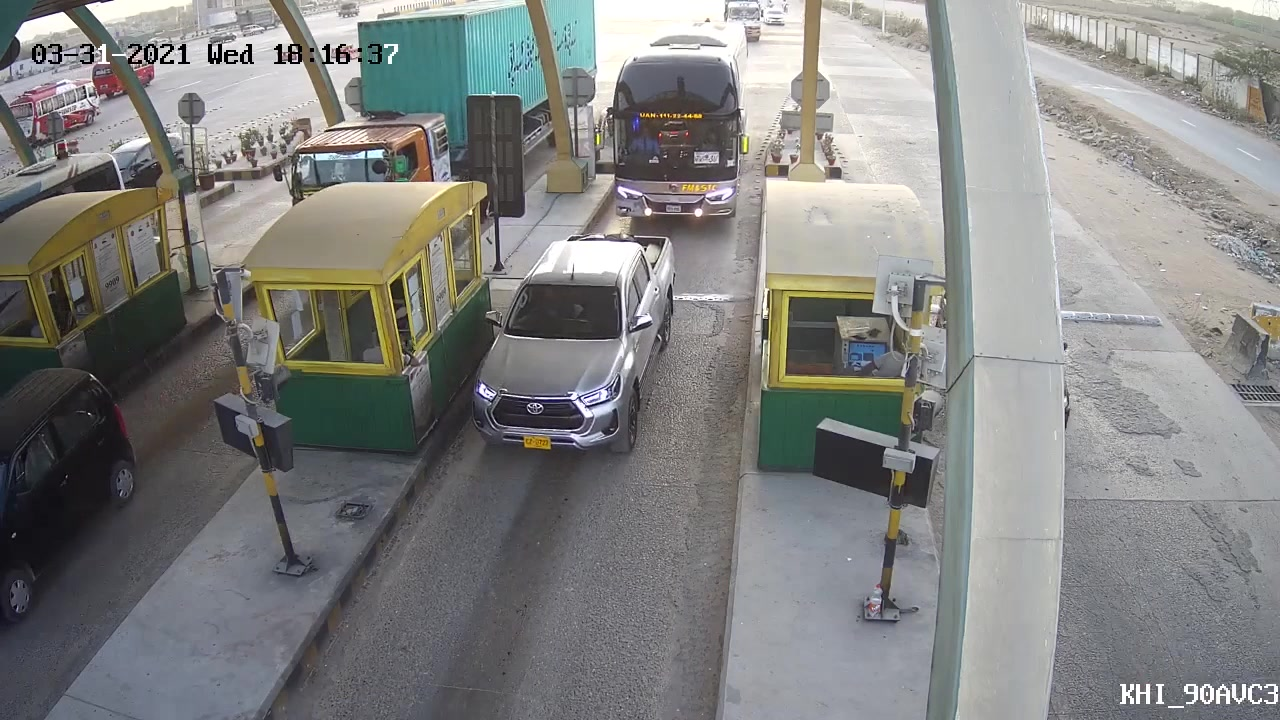F1: (460, 225, 676, 459)
F4: (591, 26, 757, 219)
